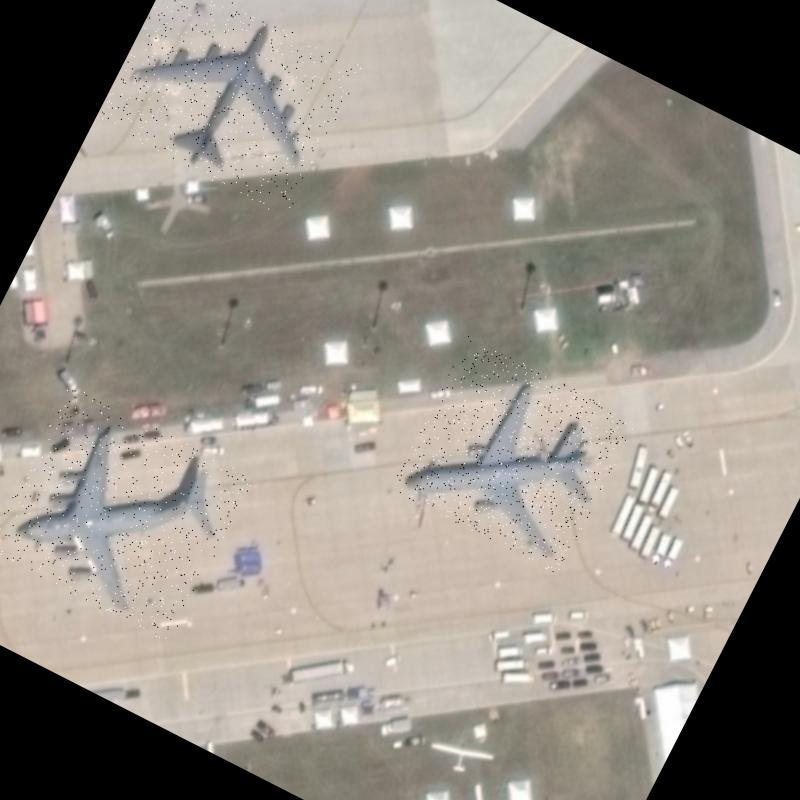A3: (0, 383, 254, 644)
A4: (389, 334, 636, 574)
A8: (95, 0, 362, 218)
